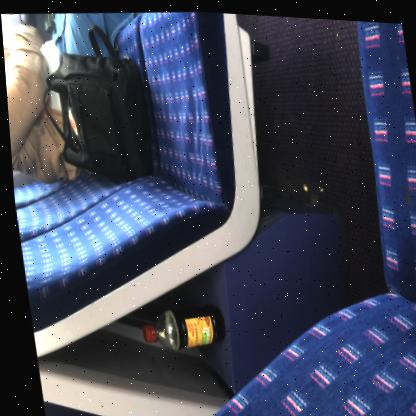Plastic: (137, 302, 220, 349)
Waste: (137, 323, 147, 341)
